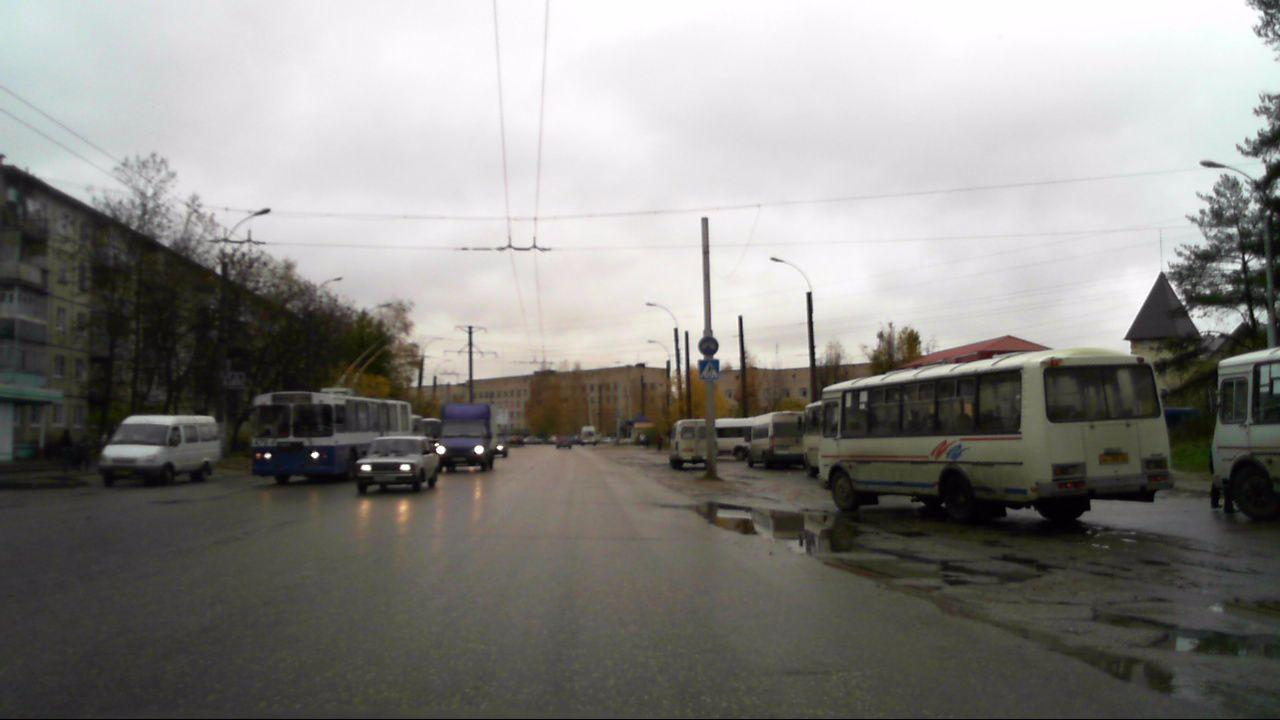road_sign: (699, 360, 720, 382), (698, 335, 719, 355)
